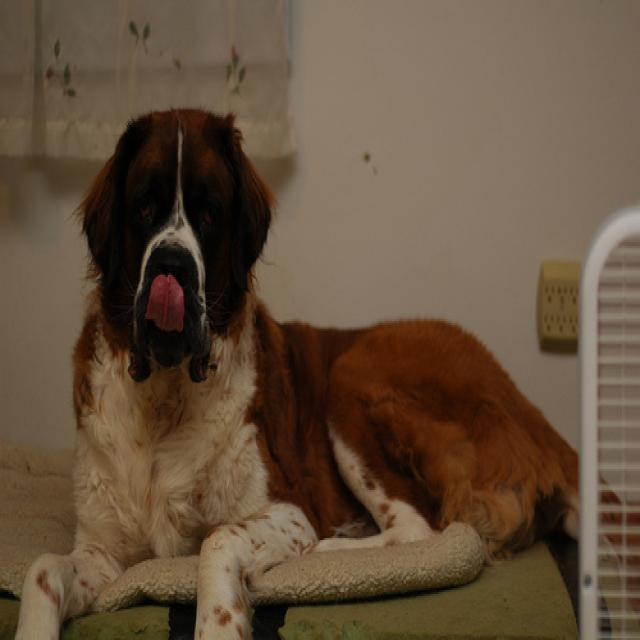dog-saint_bernard: (9, 102, 584, 636)
